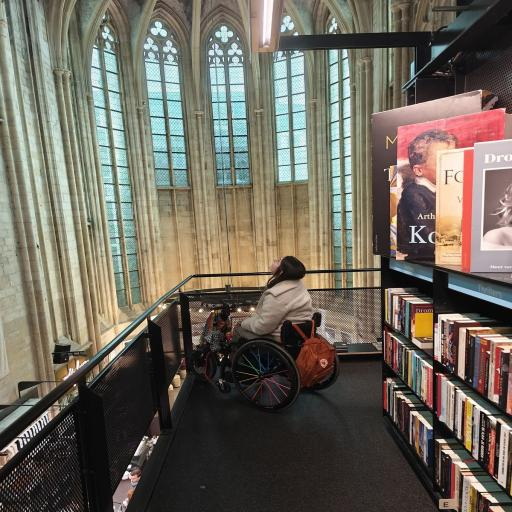bed: (471, 140, 511, 272), (412, 337, 433, 351)
door: (294, 321, 336, 387)
road: (382, 253, 512, 512)
wheelchair: (192, 321, 303, 411)
